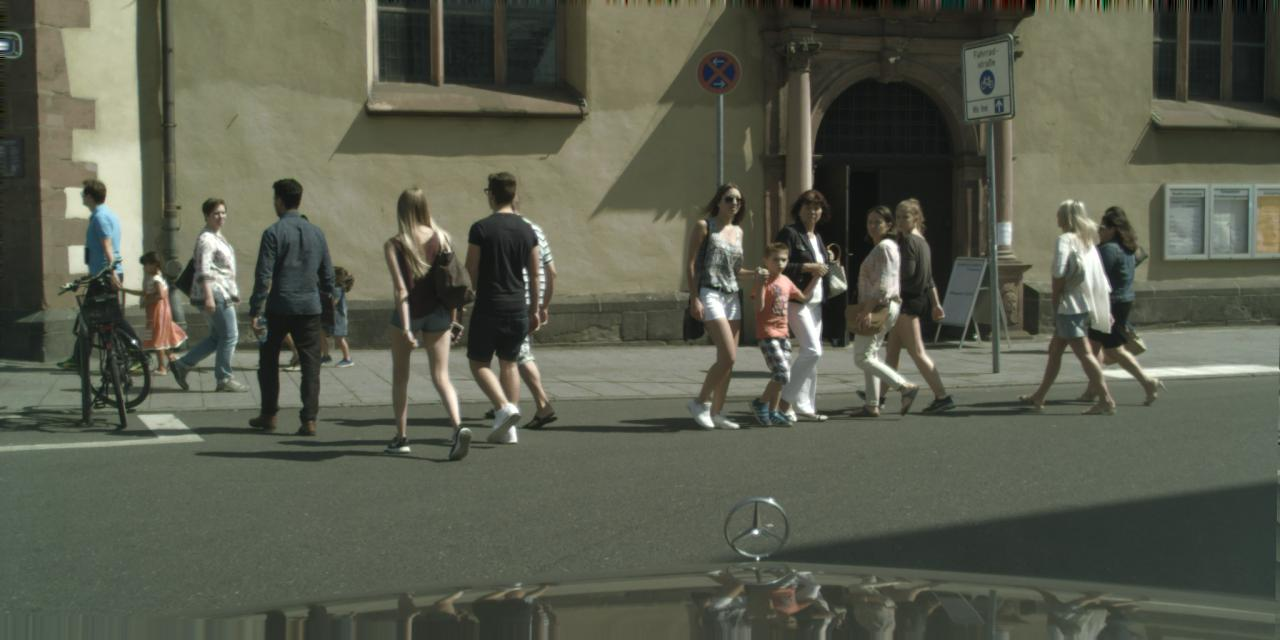ped: (366, 184, 477, 455), (449, 171, 559, 443), (237, 178, 341, 432), (672, 180, 773, 430), (464, 188, 559, 422), (760, 189, 854, 421), (864, 197, 951, 411), (1024, 198, 1110, 412), (842, 204, 928, 415), (168, 195, 248, 389), (1076, 211, 1154, 403), (57, 179, 135, 369), (738, 241, 814, 426), (1079, 204, 1148, 374), (268, 214, 332, 370), (134, 251, 184, 374), (314, 265, 354, 364)
